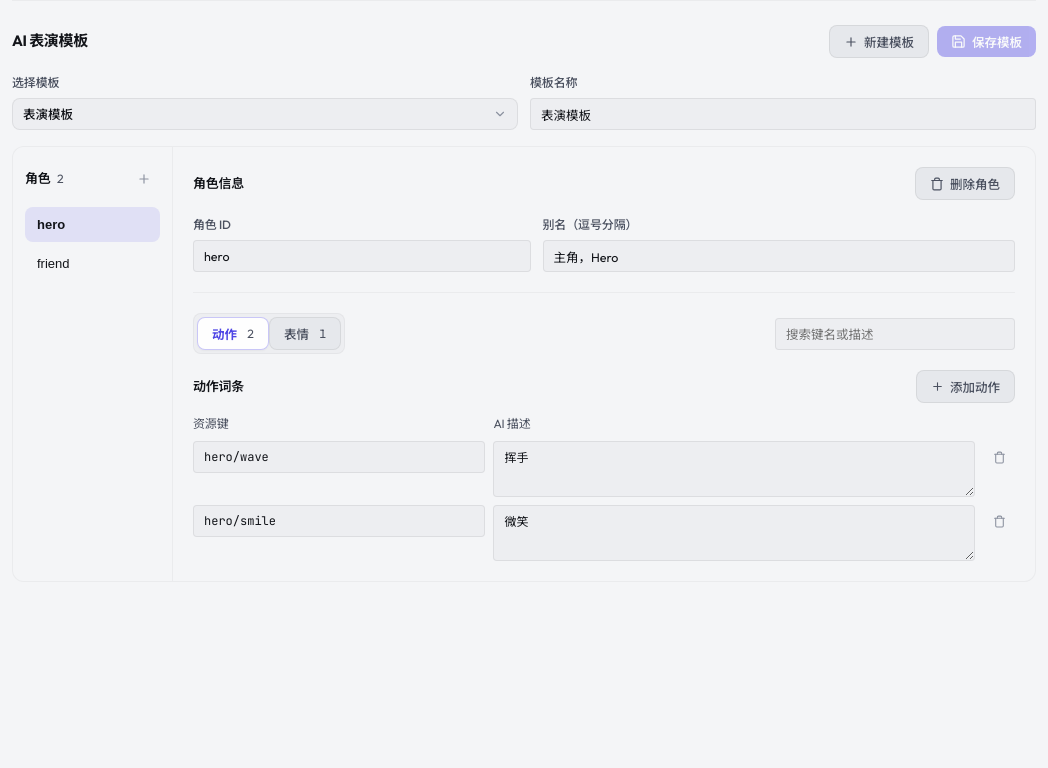
Test: TemplatePerformanceProfileEditor › reveals a newly added entry despite an active search and clears search when selecting another character
The image size is (1048, 768).
Click the tab "表情 1" at (305, 334), box [269,317,341,350]
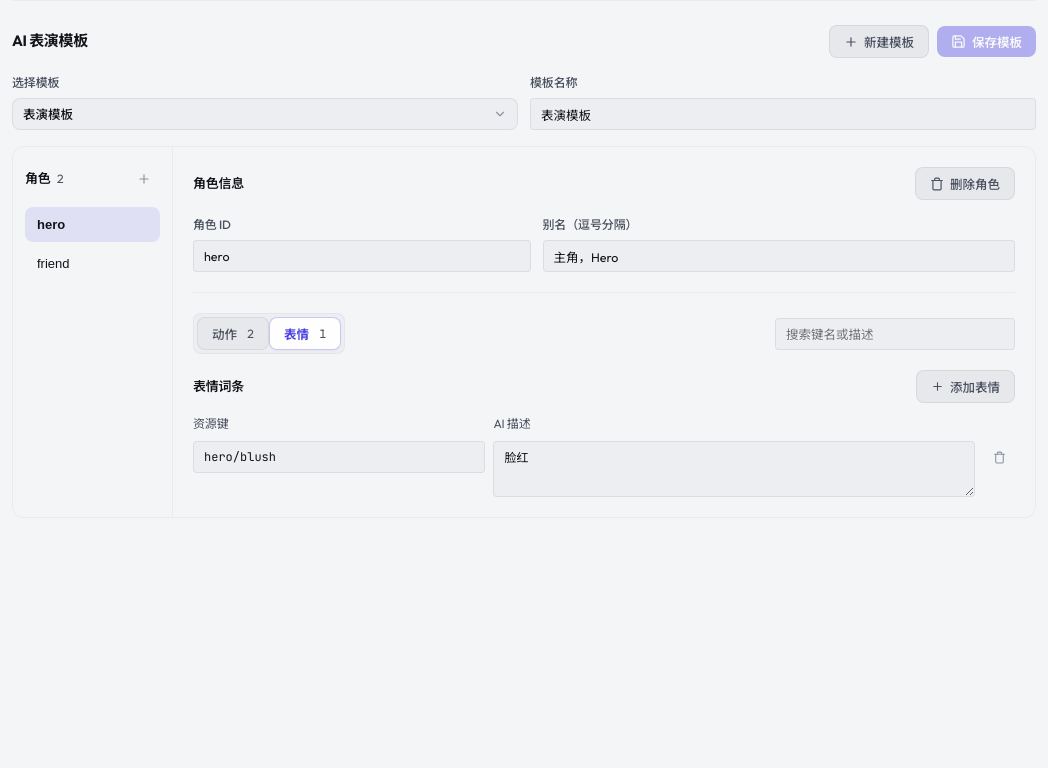
Type "missing" into the search field at (895, 334), box [775,318,1015,350]
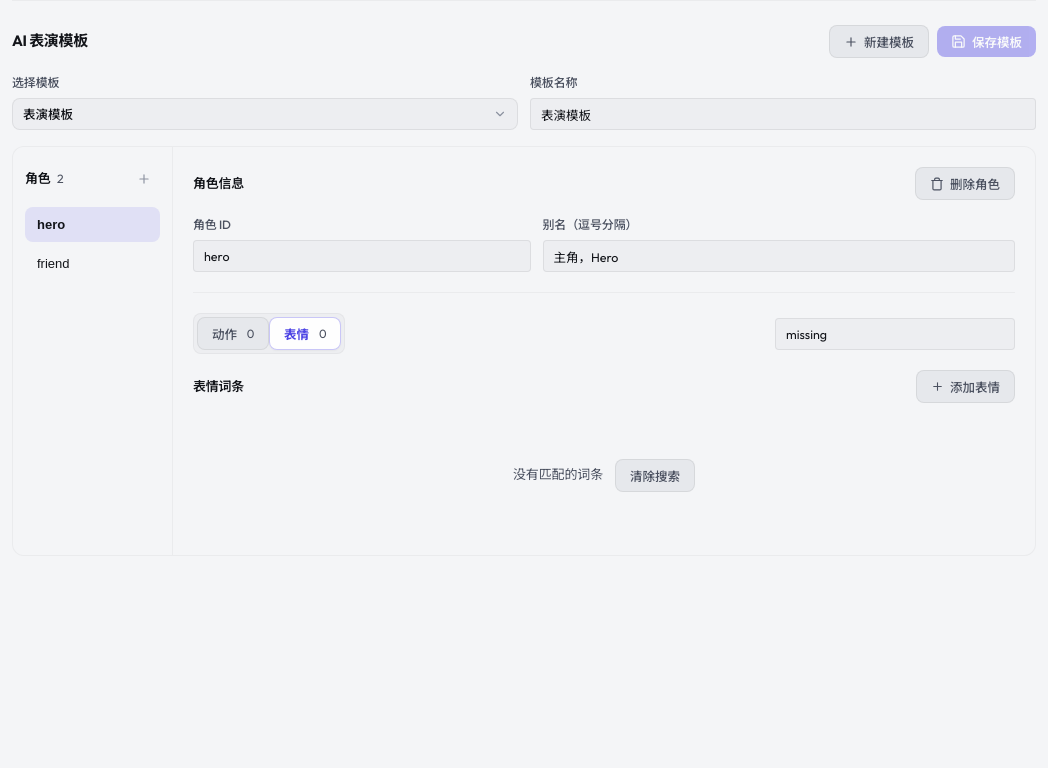
Click the button "添加表情" at (966, 386), box [916,370,1015,403]
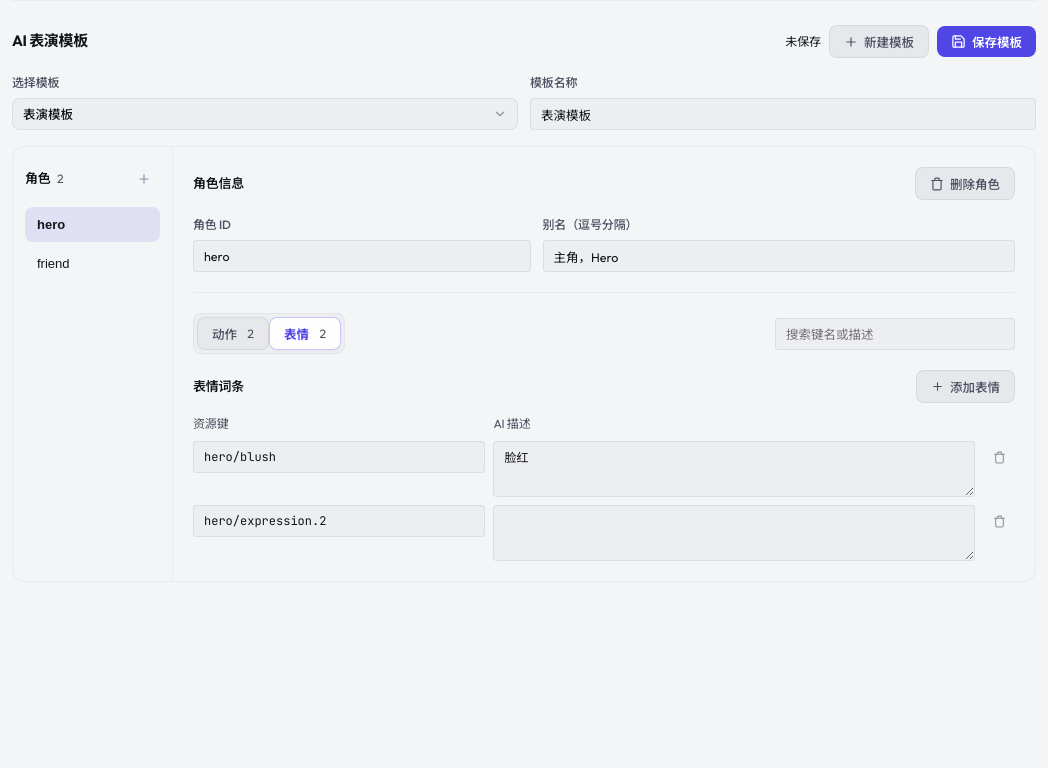
Expected: the search field is empty
Expected: the number of fields named "表情键" is 2, [193,441,485,473]; [193,505,485,537]
Type "hero" into the search field at (895, 334), box [775,318,1015,350]
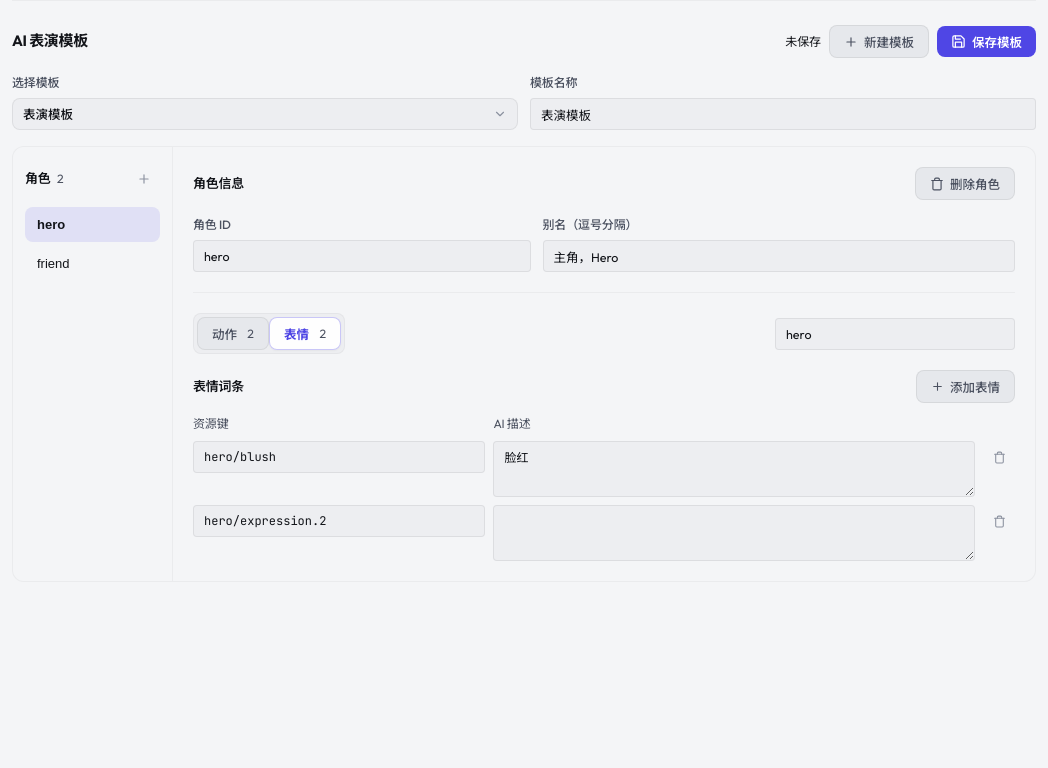
Click the button "friend" at (92, 264), box [25,246,160,281]
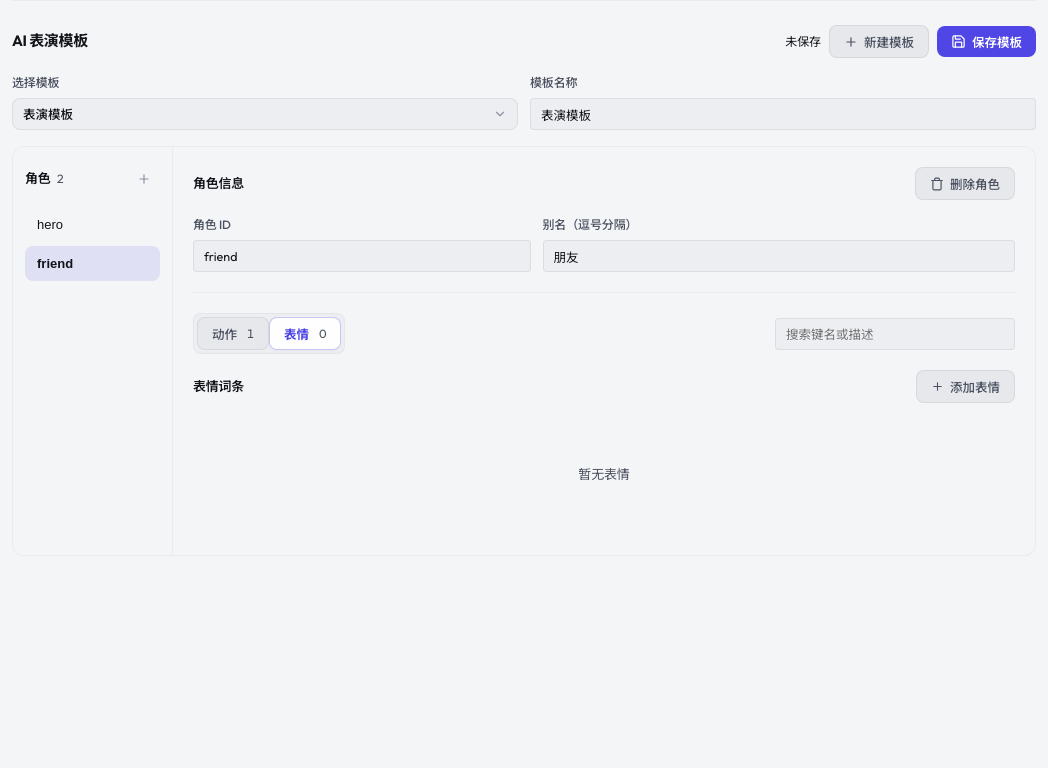
Press Home in the tab "表情 0", box [269,317,341,350]
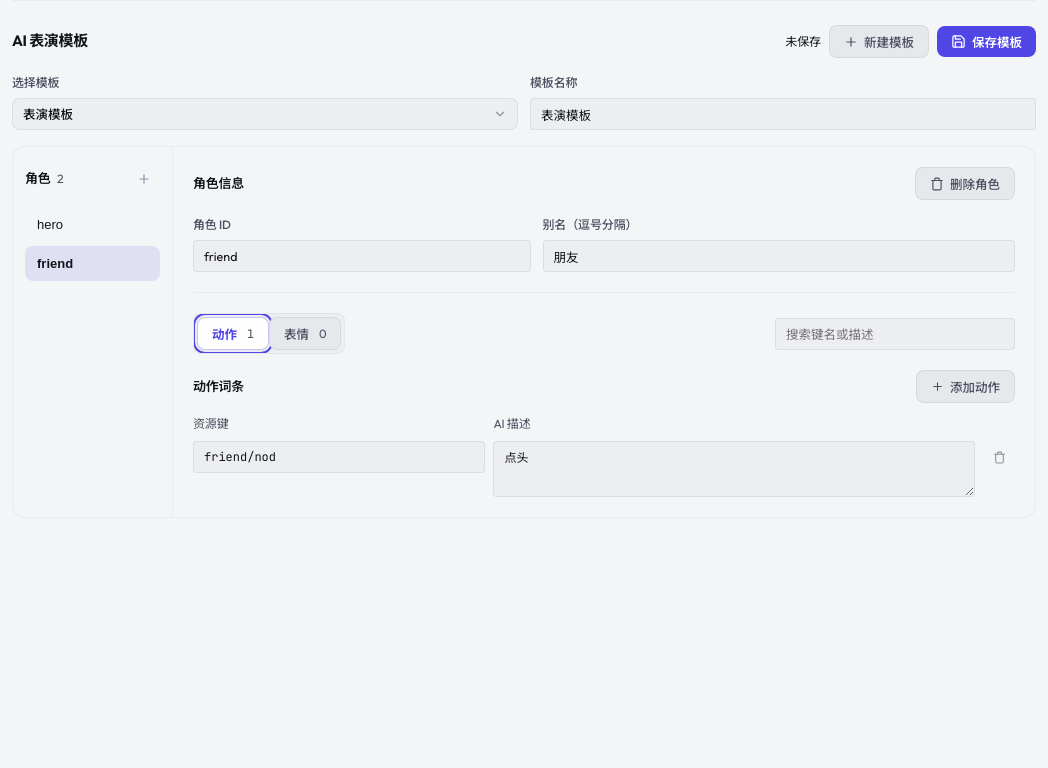
Expected: the search field is empty, [775,318,1015,350]
Expected: the field named "动作键" holds "friend/nod", [193,441,485,473]
